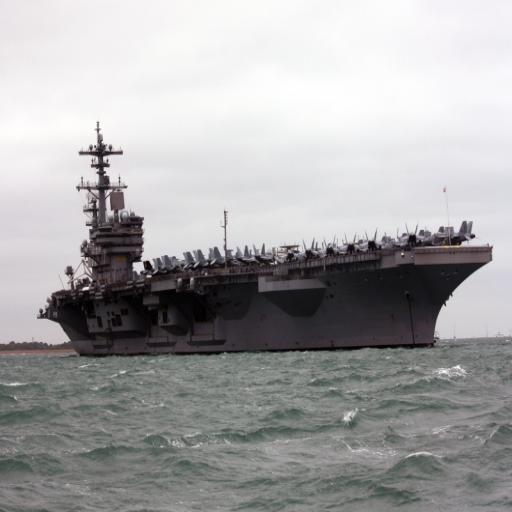Portanaves: (40, 116, 498, 351)
